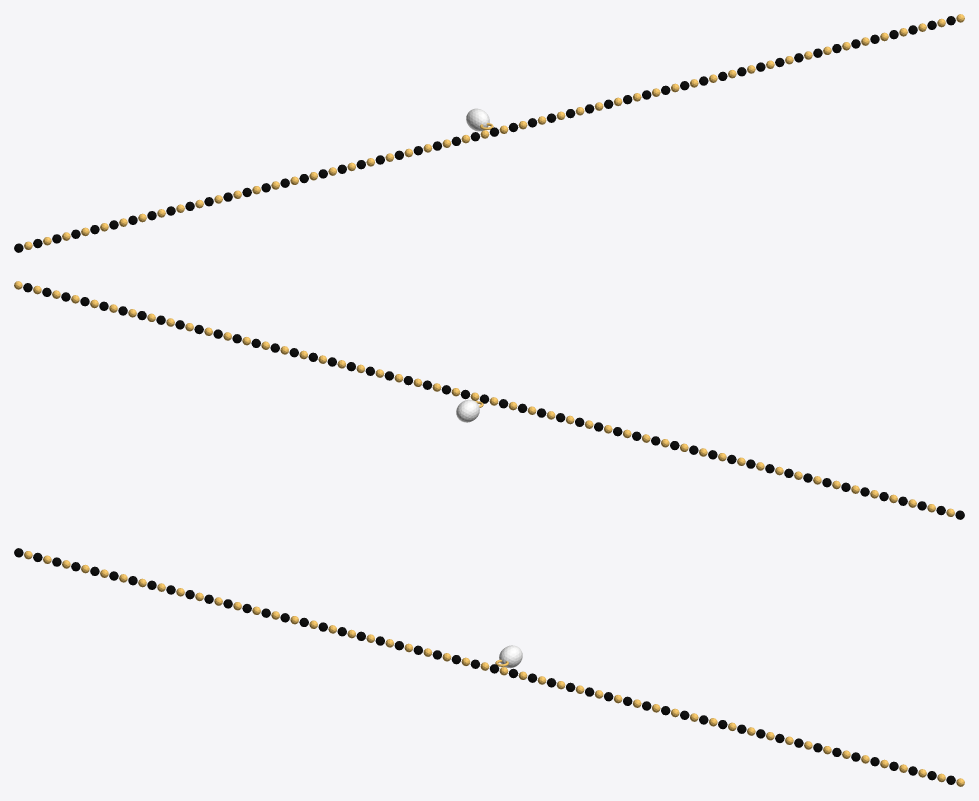
File: mangalsutra_modern_solitaire.glb
The picture shows the model from 3 angles, top to bottom: view 1: azimuth 30°, elevation 25°; view 2: azimuth 150°, elevation 25°; view 3: azimuth 330°, elevation 25°; orthographic projection.
Visible parts, largest first — view 1: world; view 2: world; view 3: world.
Boxes of the visible parts, <box> form: world: <box>14,14,964,252</box>; world: <box>14,281,964,519</box>; world: <box>14,548,964,786</box>.
Bounding box in the file's own units: 0.4992 × 0.01 × 0.0237.
Materials: 1 (1 with a texture image).
